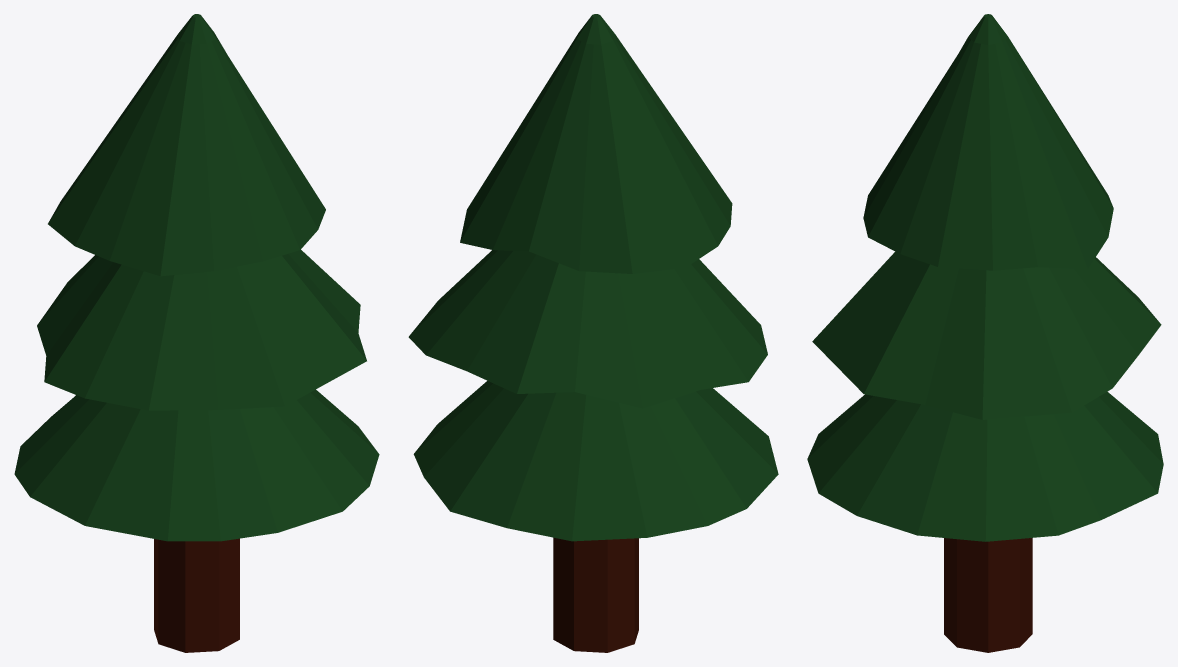
Rendered from Tree_2.fbx.
The picture shows the model from 3 angles, left to right: view 1: azimuth 30°, elevation 25°; view 2: azimuth 150°, elevation 25°; view 3: azimuth 270°, elevation 25°; orthographic projection.
Parts seen in each view (by area): view 1: Cylinder.059; view 2: Cylinder.059; view 3: Cylinder.059.
Boxes of the visible parts, bbox=[...] form: Cylinder.059: bbox=[14, 14, 379, 652]; Cylinder.059: bbox=[408, 14, 778, 652]; Cylinder.059: bbox=[807, 14, 1163, 652].
Size of the model in its own units: 203 by 375 by 196.
